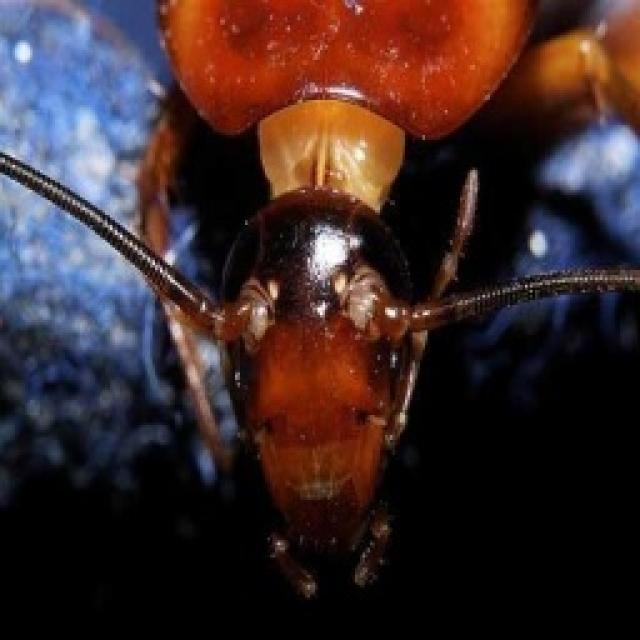cockroach: (3, 3, 637, 604)
